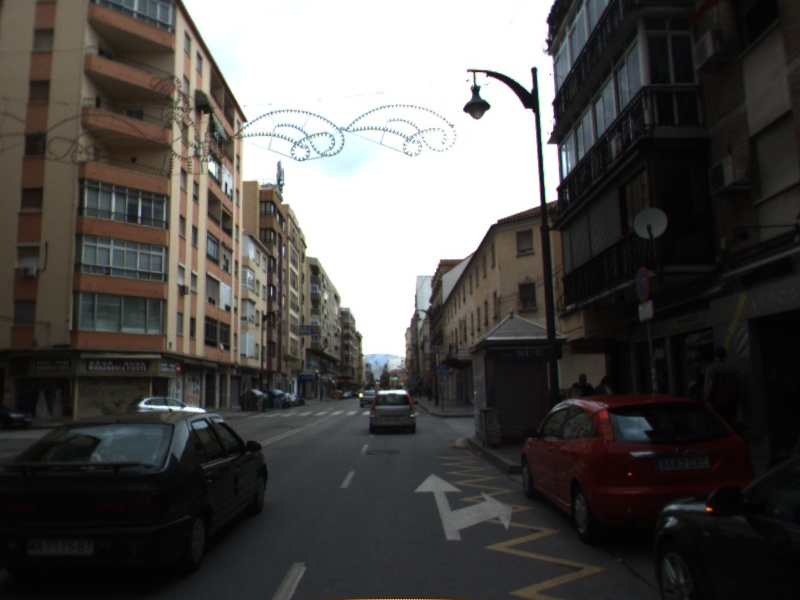STRAIGHT_RIGHT: (412, 471, 515, 543)
